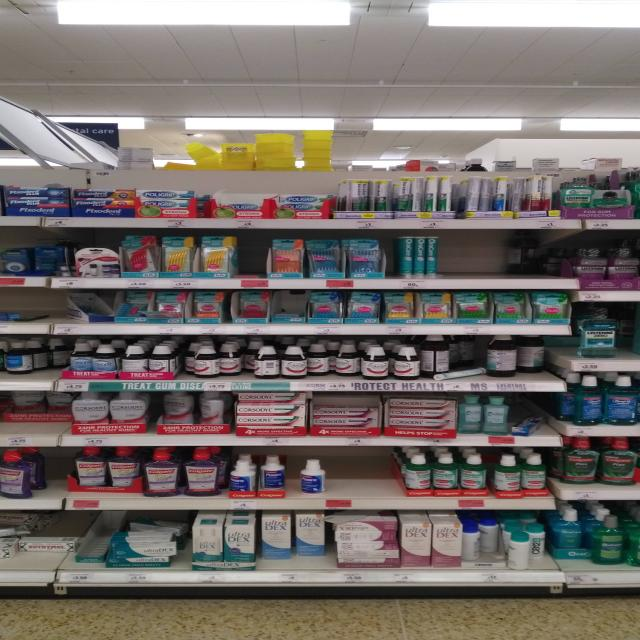void: (0, 288, 117, 322), (328, 447, 401, 499), (443, 235, 500, 278), (37, 450, 76, 497), (233, 235, 269, 277), (542, 231, 572, 278)
